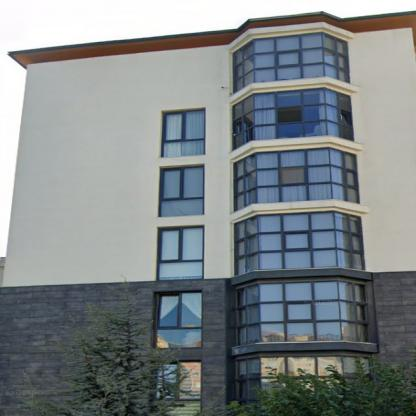window: (235, 210, 364, 276), (237, 280, 366, 346), (234, 147, 359, 211), (230, 87, 352, 151), (234, 33, 347, 92), (239, 356, 355, 400), (158, 227, 204, 279), (157, 293, 201, 347), (160, 166, 204, 216), (160, 362, 200, 412), (162, 110, 204, 157)
